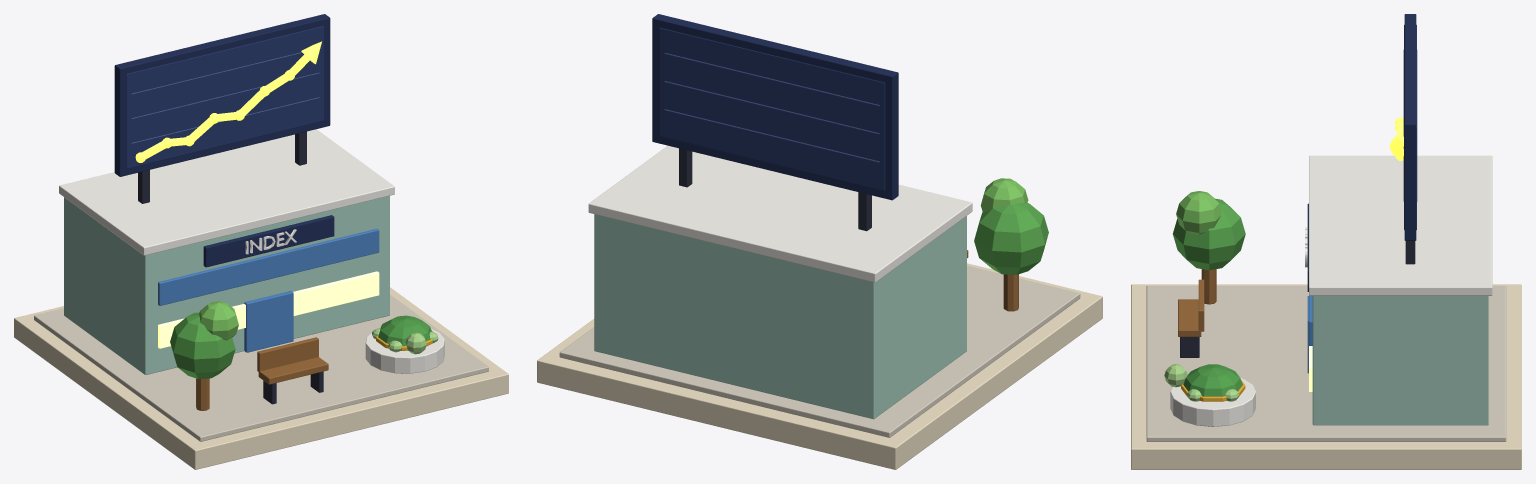
Rendered from index_fund.glb.
3 views of the same model, side by side, from view 1: azimuth 30°, elevation 25°; view 2: azimuth 150°, elevation 25°; view 3: azimuth 270°, elevation 25° (orthographic). The views are drawn at different scales.
Visible parts, largest first — view 1: IndexFund; view 2: IndexFund; view 3: IndexFund.
Boxes of the visible parts, x1,y1,x2,y2 form: IndexFund: (14,14,508,469); IndexFund: (537,14,1102,469); IndexFund: (1131,14,1521,469).
Bounding box in the file's own units: 2 × 1.8 × 2.
